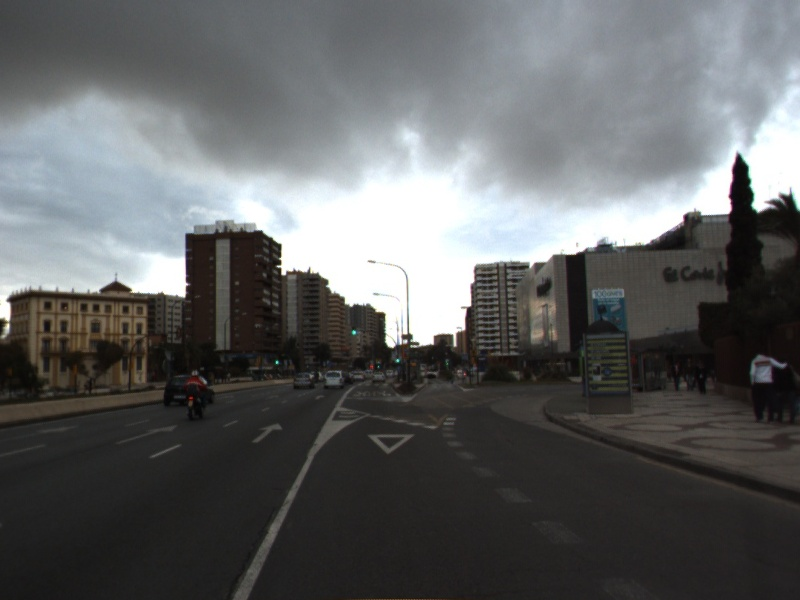STRAIGHT: (113, 422, 181, 447), (249, 421, 285, 445)
